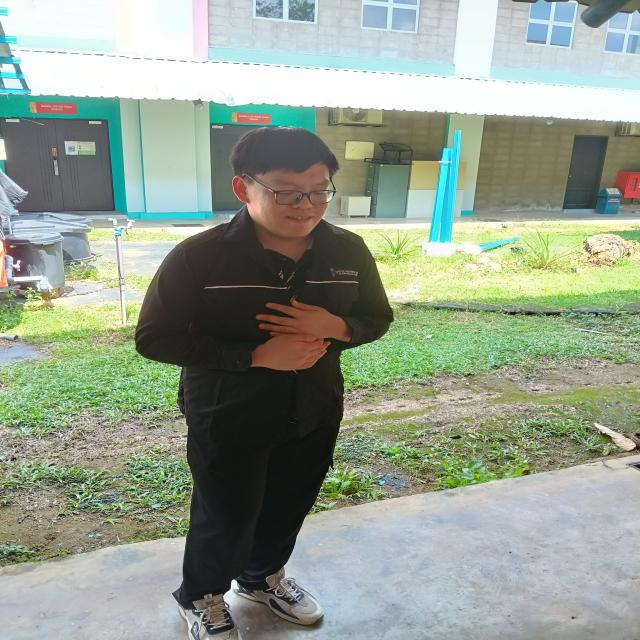person_with_labcoat: (135, 128, 393, 640)
